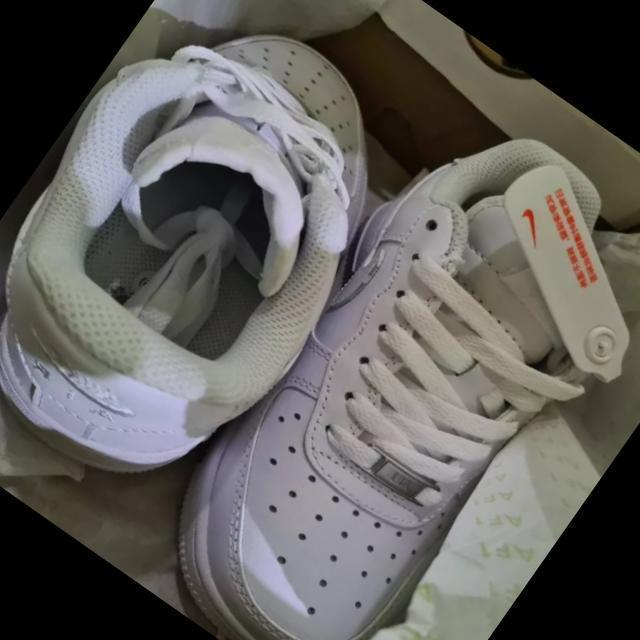nike original air force: (121, 80, 640, 640), (0, 0, 449, 532)
